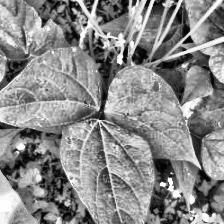ALS: (104, 68, 202, 172), (64, 120, 162, 224), (0, 50, 103, 134), (0, 0, 43, 59)
